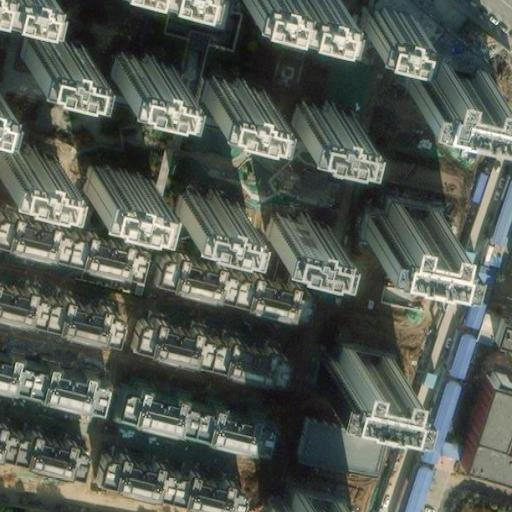building: (112, 387, 265, 455), (126, 320, 279, 388), (95, 449, 239, 512), (0, 288, 117, 347), (452, 365, 512, 466), (0, 352, 100, 412), (351, 191, 440, 248), (303, 333, 392, 390), (400, 50, 489, 107), (0, 432, 85, 482), (417, 375, 461, 454), (252, 196, 321, 237), (72, 150, 141, 191), (96, 36, 165, 77), (185, 59, 253, 100), (277, 86, 346, 126), (159, 172, 228, 212), (21, 29, 89, 69), (254, 479, 335, 512), (0, 136, 57, 176), (399, 458, 435, 512), (445, 329, 477, 380), (347, 0, 403, 24), (459, 296, 486, 331), (453, 499, 511, 512), (490, 312, 512, 340)
